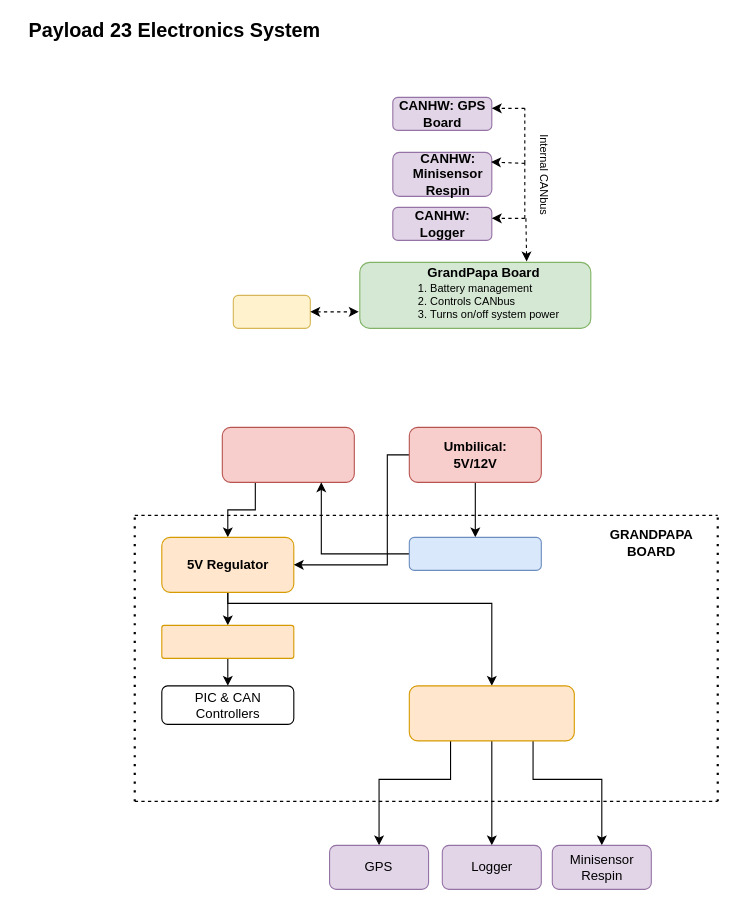
Image size: 739x909. Some labels were removed from this diagram. The shapes that lost their labels are listed below. From the top down, each one's centre as x and y in pixels, then its label:
the point at 271,311: RocketCAN
the point at 287,454: Battery: 12V
the point at 474,553: Battery Charge Circuit
the point at 227,641: 5V Always On
the point at 491,713: 5V - on when rocketCAN gives power on message
